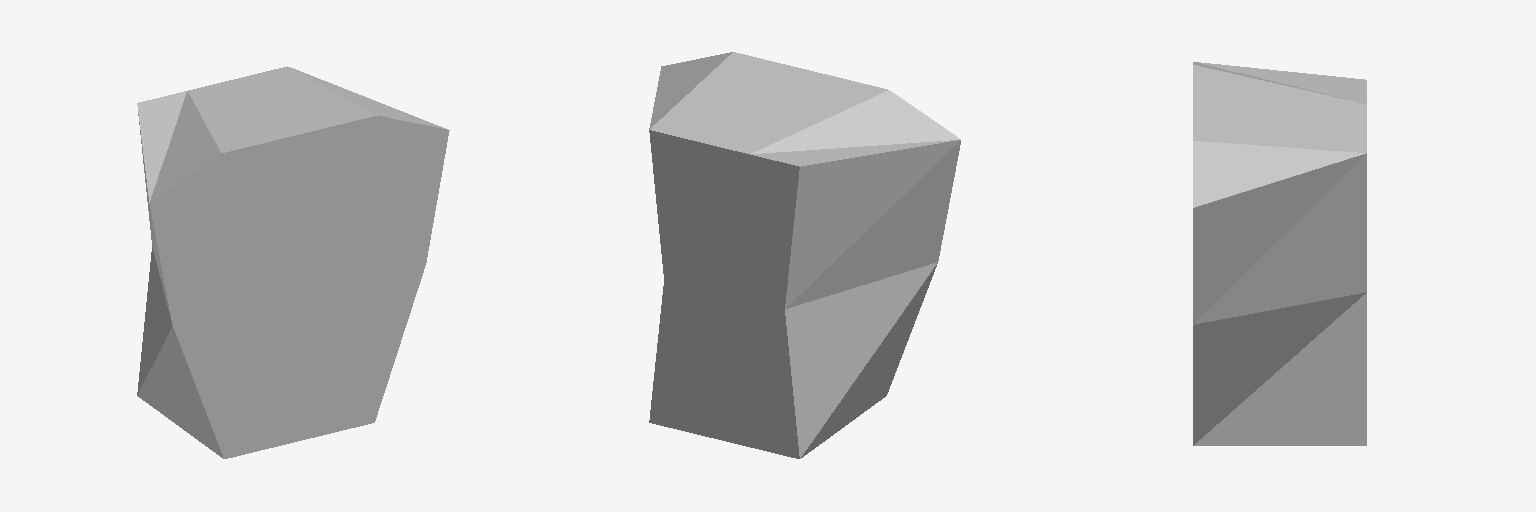
The model's file is torso.obj.
3 renders of one model, left to right at view 1: azimuth 30°, elevation 25°; view 2: azimuth 150°, elevation 25°; view 3: azimuth 270°, elevation 25°, orthographic.
Parts seen in each view (by area): view 1: geo__torso; view 2: geo__torso; view 3: geo__torso.
Boxes of the visible parts, box(x1,y1,x2,y2) form: geo__torso: box(137, 66, 449, 458); geo__torso: box(649, 52, 960, 458); geo__torso: box(1193, 62, 1366, 445).
Size of the model in its own units: 6.97 by 6.81 by 3.5.